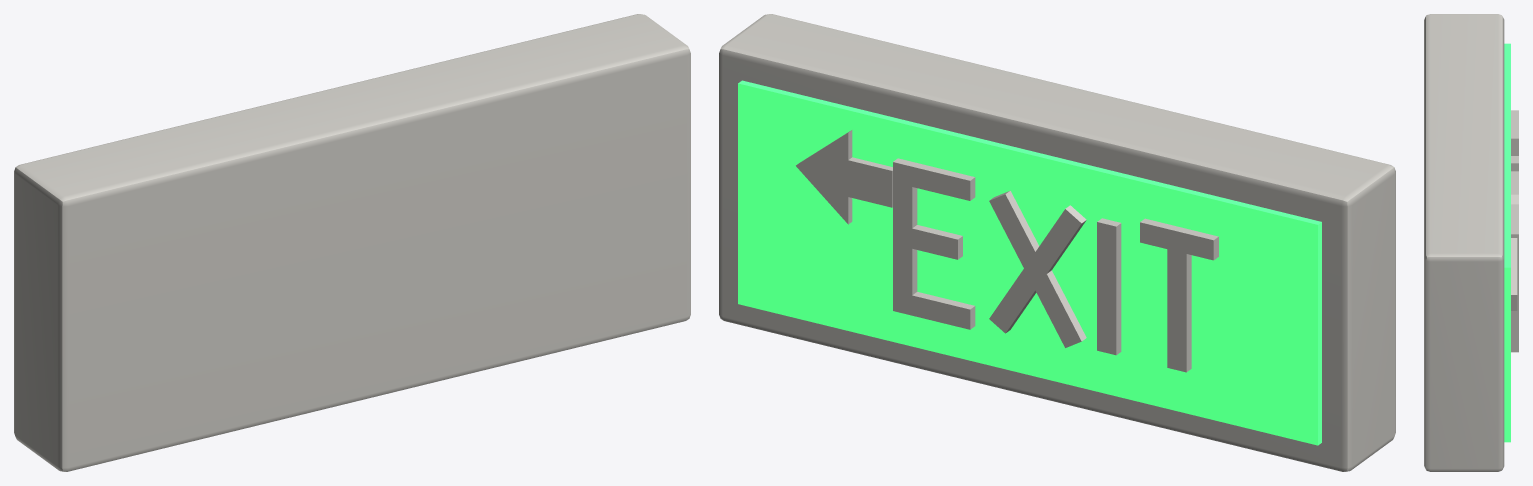
File: prop_exit_sign.glb
The picture shows the model from 3 angles, left to right: view 1: azimuth 30°, elevation 25°; view 2: azimuth 150°, elevation 25°; view 3: azimuth 270°, elevation 25°; orthographic projection. The views are drawn at different scales.
Visible parts, largest first — view 1: Sign; view 2: Sign; view 3: Sign.
Boxes of the visible parts, x1,y1,x2,y2 form: Sign: (14,14,690,471); Sign: (719,14,1395,471); Sign: (1424,14,1518,471).
Bounding box in the file's own units: 0.36 × 0.15 × 0.059.
